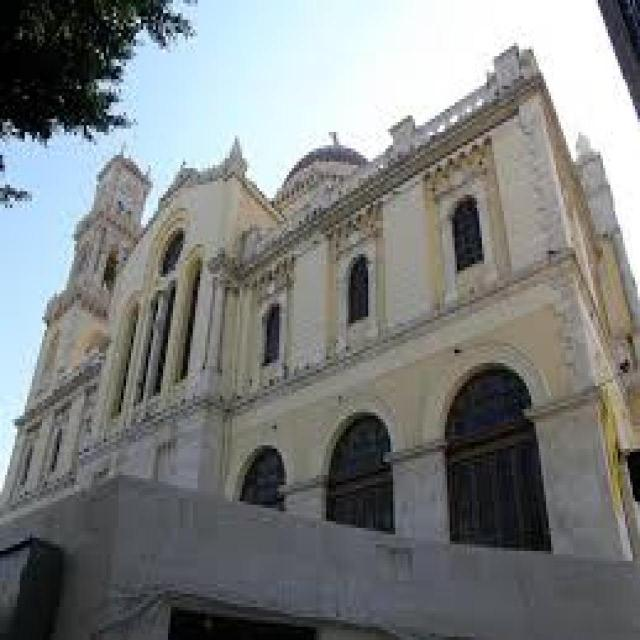Agios Minas: (3, 42, 640, 640)
